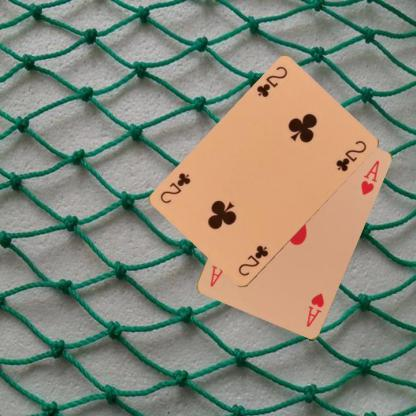2c: (254, 64, 289, 100), (236, 243, 270, 278)
Ah: (304, 290, 326, 328)
